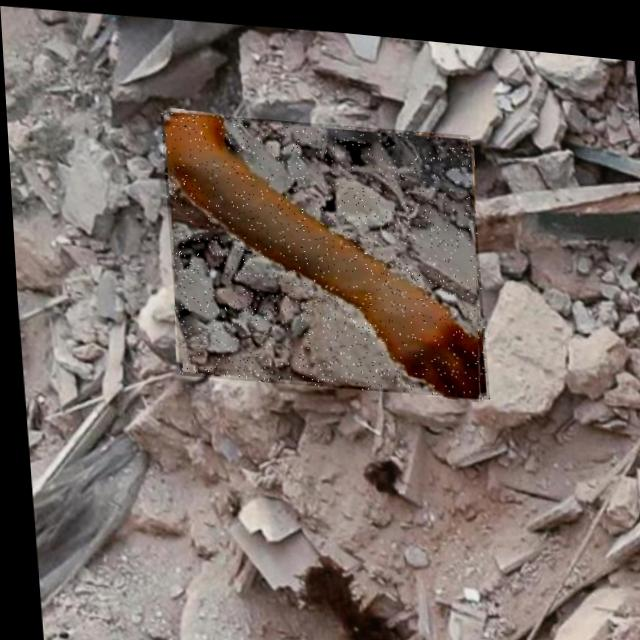Person in Rubble: (159, 102, 486, 395)
